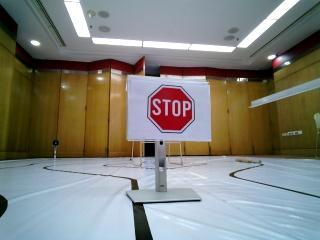stop: (127, 74, 214, 143)
